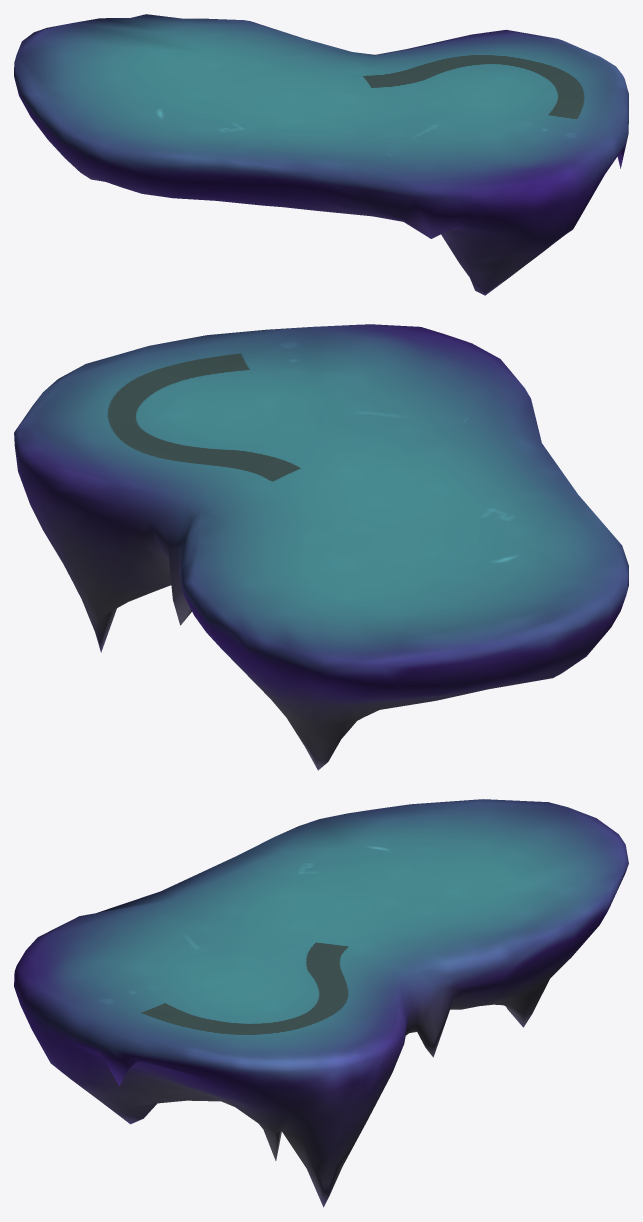
The model's file is island_music.fbx.
3 views of the same model, one above another, from view 1: azimuth 30°, elevation 25°; view 2: azimuth 150°, elevation 25°; view 3: azimuth 270°, elevation 25° (orthographic). The views are drawn at different scales.
Visible parts, largest first — view 1: island_music; view 2: island_music; view 3: island_music.
Boxes of the visible parts, x1,y1,x2,y2 form: island_music: (14, 14, 628, 295); island_music: (14, 324, 628, 770); island_music: (14, 799, 628, 1207).
Bounding box in the file's own units: 5369 × 1889 × 5392.
Materials: 1 (1 with a texture image).
